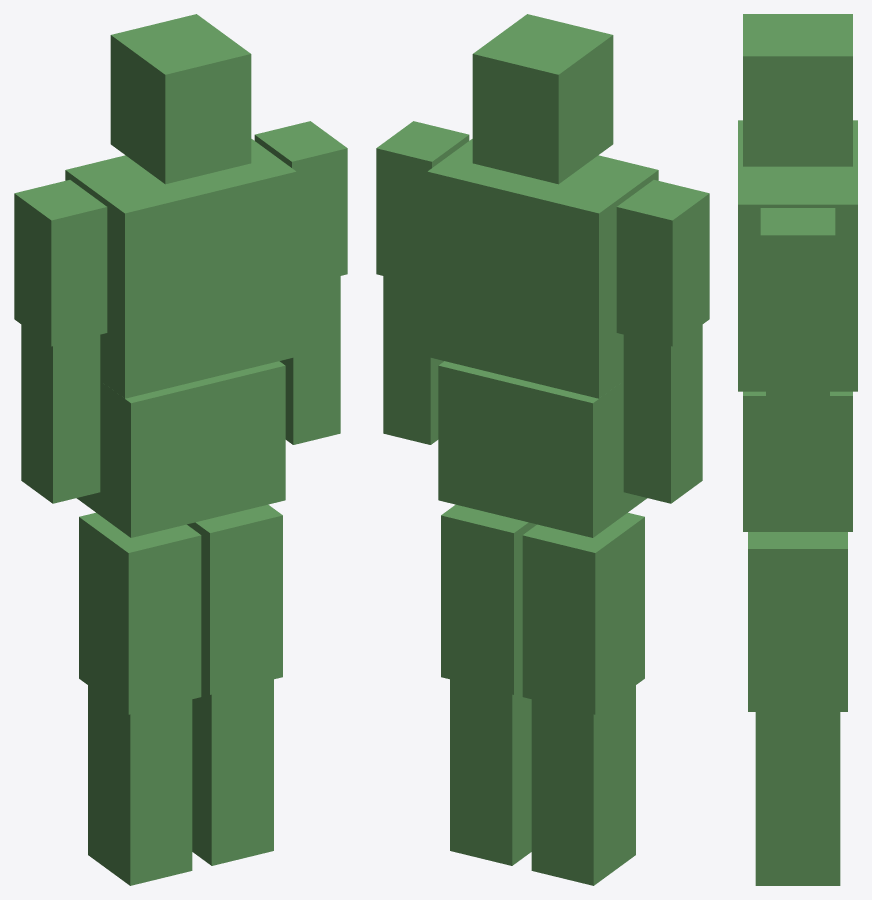
Rendered from figur_nackt.glb.
3 views of the same model, side by side, from view 1: azimuth 30°, elevation 25°; view 2: azimuth 150°, elevation 25°; view 3: azimuth 270°, elevation 25° (orthographic).
Visible parts, largest first — view 1: Chest, Stomach, LeftLeg, Head, LeftKnee, RightLeg, RightKnee, LeftArm, LeftElbow, RightArm, RightElbow; view 2: Chest, Stomach, LeftLeg, Head, LeftKnee, RightLeg, RightKnee, LeftArm, LeftElbow, RightArm, RightElbow; view 3: RightLeg, Head, RightKnee, Chest, RightArm, RightElbow, Stomach.
Part boxes in pixels (bbox=[...]): Chest: bbox=[65, 139, 296, 398]; Stomach: bbox=[76, 361, 285, 537]; LeftLeg: bbox=[79, 512, 201, 714]; Head: bbox=[110, 14, 251, 184]; LeftKnee: bbox=[88, 685, 192, 885]; RightLeg: bbox=[187, 504, 282, 694]; RightKnee: bbox=[192, 679, 273, 865]; LeftArm: bbox=[14, 180, 107, 346]; LeftElbow: bbox=[21, 324, 100, 503]; RightArm: bbox=[254, 121, 347, 286]; RightElbow: bbox=[279, 276, 340, 444]; Chest: bbox=[427, 139, 658, 398]; Stomach: bbox=[438, 361, 647, 537]; LeftLeg: bbox=[522, 512, 644, 714]; Head: bbox=[472, 14, 613, 184]; LeftKnee: bbox=[531, 685, 635, 885]; RightLeg: bbox=[441, 504, 536, 694]; RightKnee: bbox=[450, 679, 531, 865]; LeftArm: bbox=[616, 180, 709, 346]; LeftElbow: bbox=[623, 324, 702, 503]; RightArm: bbox=[376, 121, 469, 286]; RightElbow: bbox=[383, 276, 444, 444]; RightLeg: bbox=[748, 532, 847, 711]; Head: bbox=[743, 14, 852, 166]; RightKnee: bbox=[755, 712, 840, 885]; Chest: bbox=[738, 120, 857, 391]; RightArm: bbox=[760, 208, 835, 362]; RightElbow: bbox=[766, 362, 829, 522]; Stomach: bbox=[743, 391, 852, 531].
Size of the model in its own units: 0.69 by 1.8 by 0.24.
